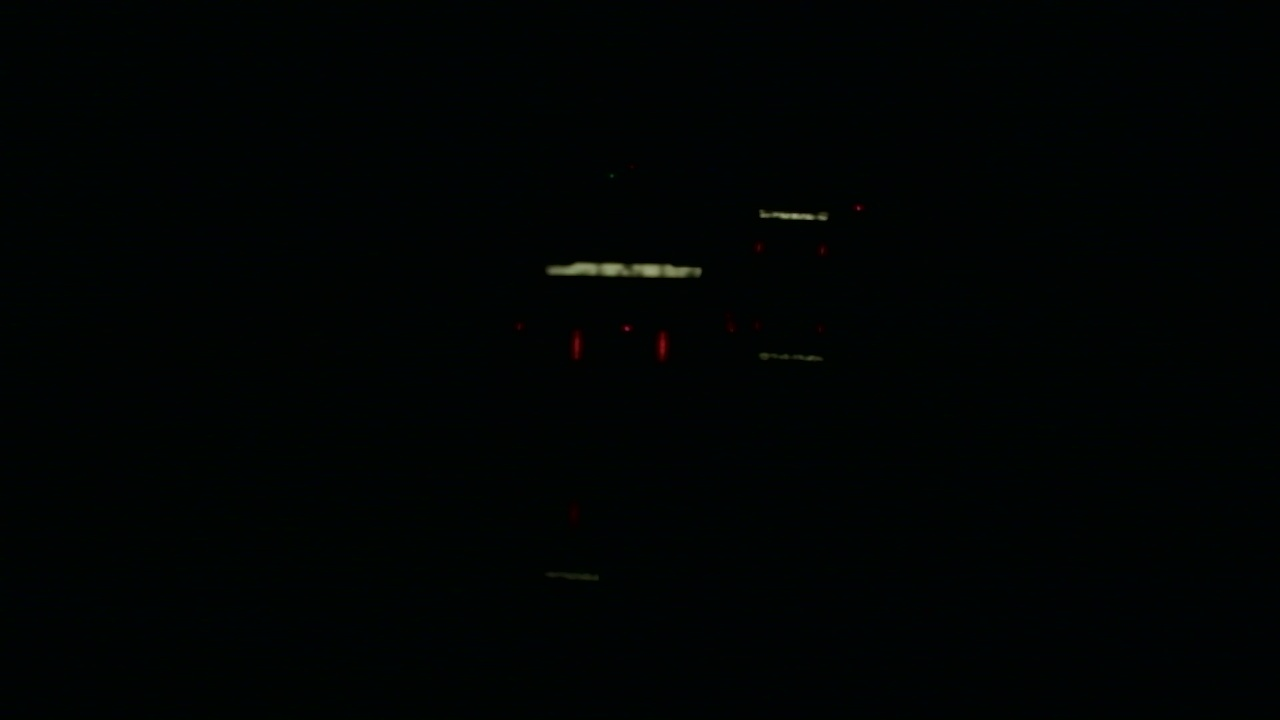lamp: (656, 330, 673, 360), (569, 328, 576, 361)
pair1: (573, 329, 667, 360)
